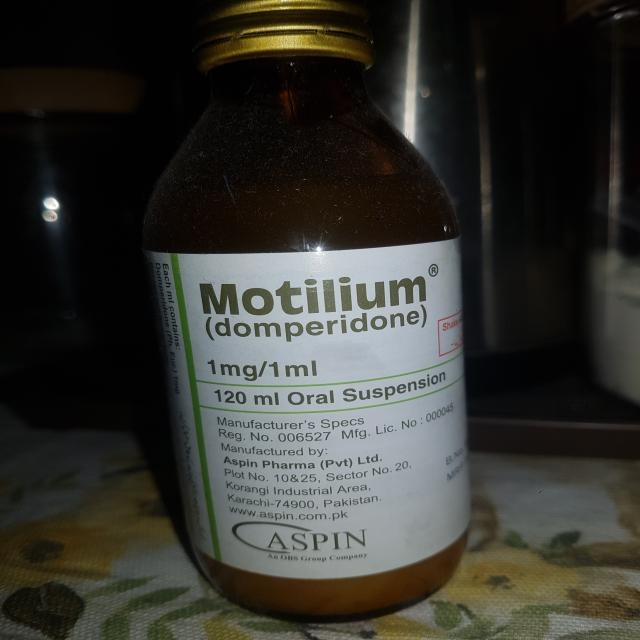electronic: (142, 0, 468, 628)
